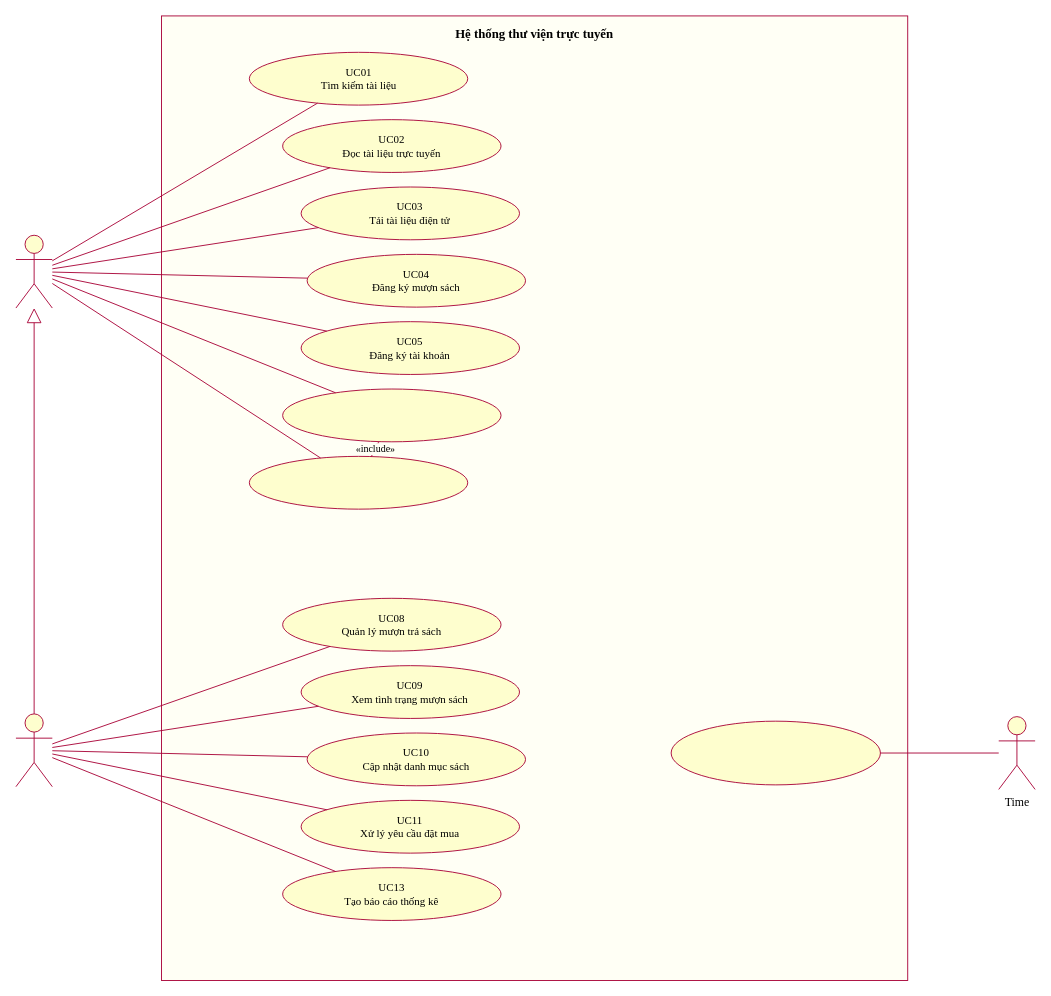
Image size: 1051x996. Some labels were removed from this diagram. Here are the shapes that lost their labels. From the top down, the centre of each, then its label:
[33,271]: Độc giả
[391,415]: UC06 Đăng nhập
[358,482]: UC07 Đặt mua tài liệu
[33,750]: Thủ thư
[775,752]: UC12 Gửi email nhắc nhở hạn trả sách (trước 3 ngày)
